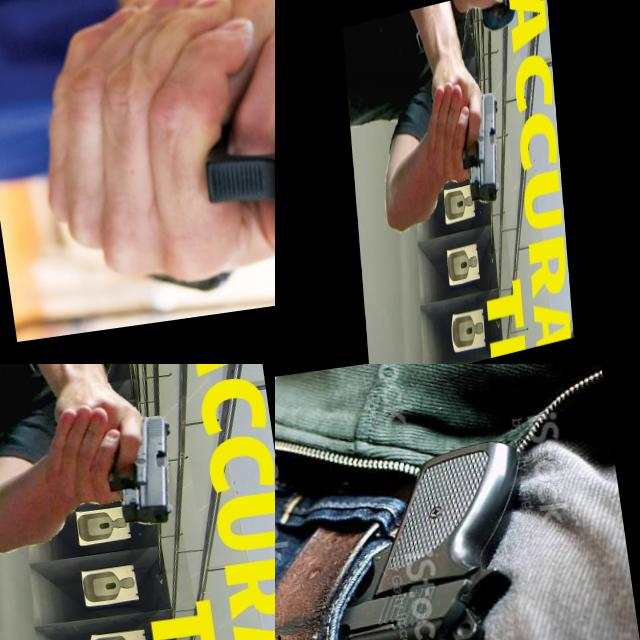handgun: (290, 431, 555, 640), (172, 48, 275, 308), (88, 410, 184, 534), (451, 87, 505, 213)
